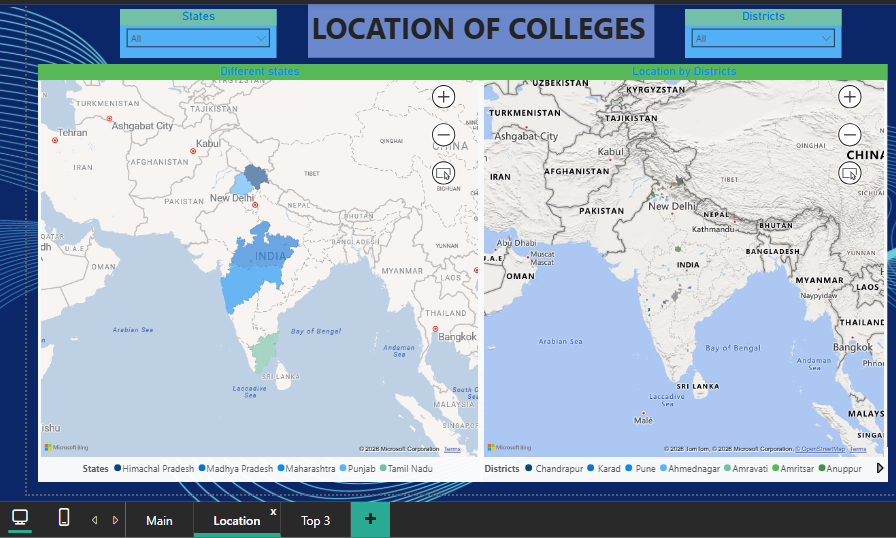

Layout of this report page (visuals, bound fields, positions):
{"tool":"powerbi","page":{"name":"Location","canvas":[1280,720],"ordinal":1},"visuals":[{"type":"filledMap","title":"Different states","fields":{"Category":["Table1.State"],"Series":["Table1.State"]},"box":[16.3,88.4,651.2,612.8],"z":0},{"type":"textbox","box":[412.8,0,509.3,79.1],"z":1000},{"type":"filledMap","title":"Location by Districts","fields":{"Category":["Table1.District"],"Series":["Table1.District"]},"box":[667.4,88.4,596.5,612.8],"z":2000},{"type":"slicer","title":"Districts","fields":{"Values":["Total Data.District"]},"box":[966.3,7,230.2,72.1],"z":3000},{"type":"slicer","title":"States","fields":{"Values":["Total Data.State"]},"box":[137.2,7,230.2,72.1],"z":4000}]}

Visuals, with their boxes on the page's 1280x720 design canvas (x1, y1, x2, y2). These are canvas units, not pixel positions in the 896x538 screenshot, which may show the page scaled, cropped or inside an application window:
"Different states" filledMap: [x1=16, y1=88, x2=668, y2=701]
textbox: [x1=413, y1=0, x2=922, y2=79]
"Location by Districts" filledMap: [x1=667, y1=88, x2=1264, y2=701]
"Districts" slicer: [x1=966, y1=7, x2=1196, y2=79]
"States" slicer: [x1=137, y1=7, x2=367, y2=79]
